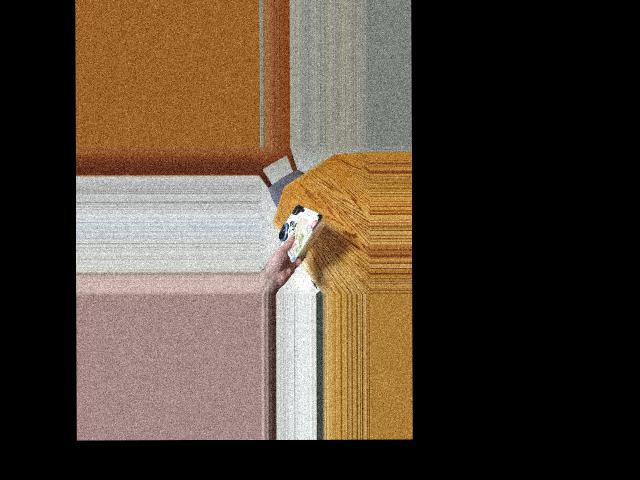cheese: (277, 201, 334, 258)
